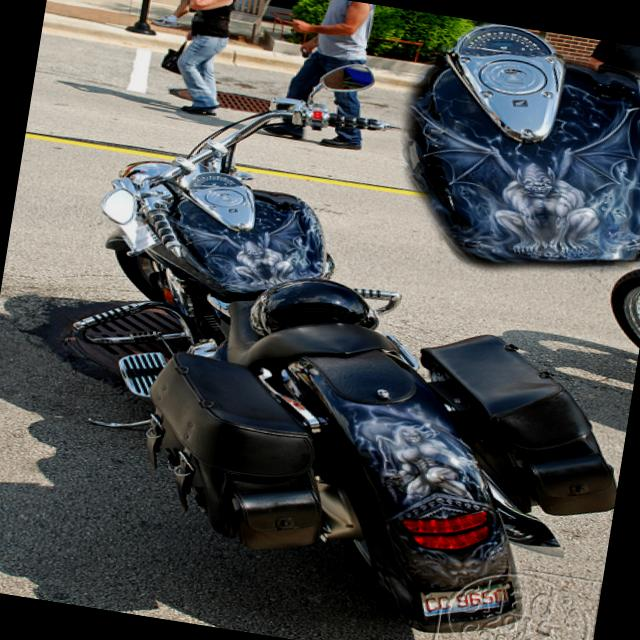Vehicle: (26, 24, 640, 640), (384, 13, 640, 296), (602, 260, 640, 350)
